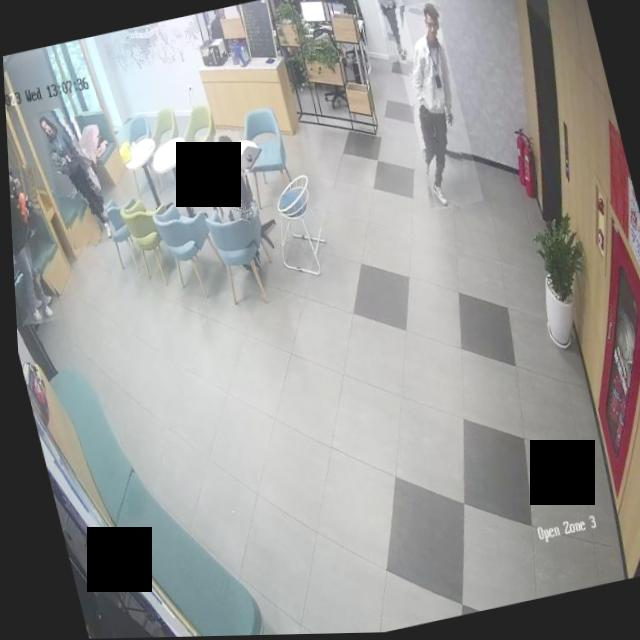person: (386, 1, 482, 214), (36, 103, 112, 251), (7, 163, 63, 327), (197, 129, 257, 225), (369, 0, 415, 65)
